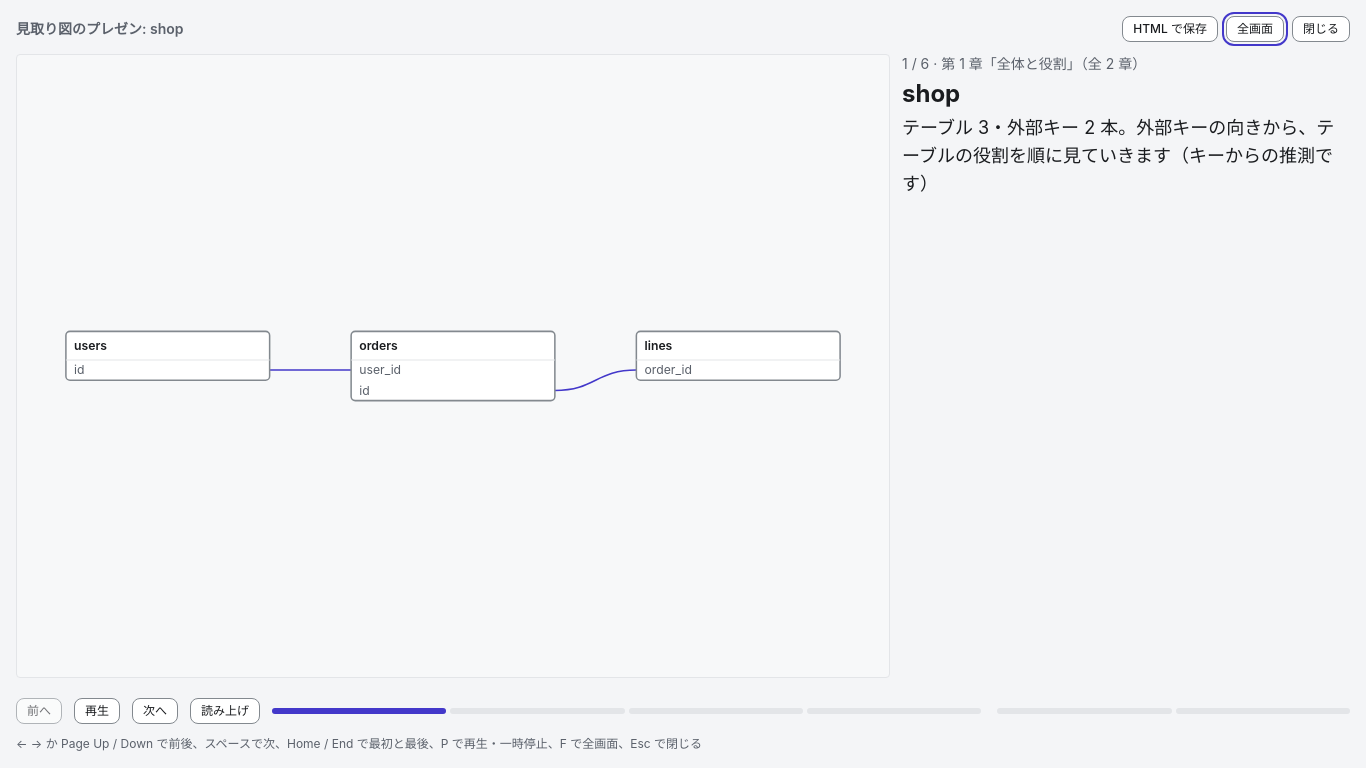
Test: MapTour › plays and pauses with P, and from its button
The image size is (1366, 768).
Expected: the picture is shown, [17, 55, 889, 677]
Press p in the dialog
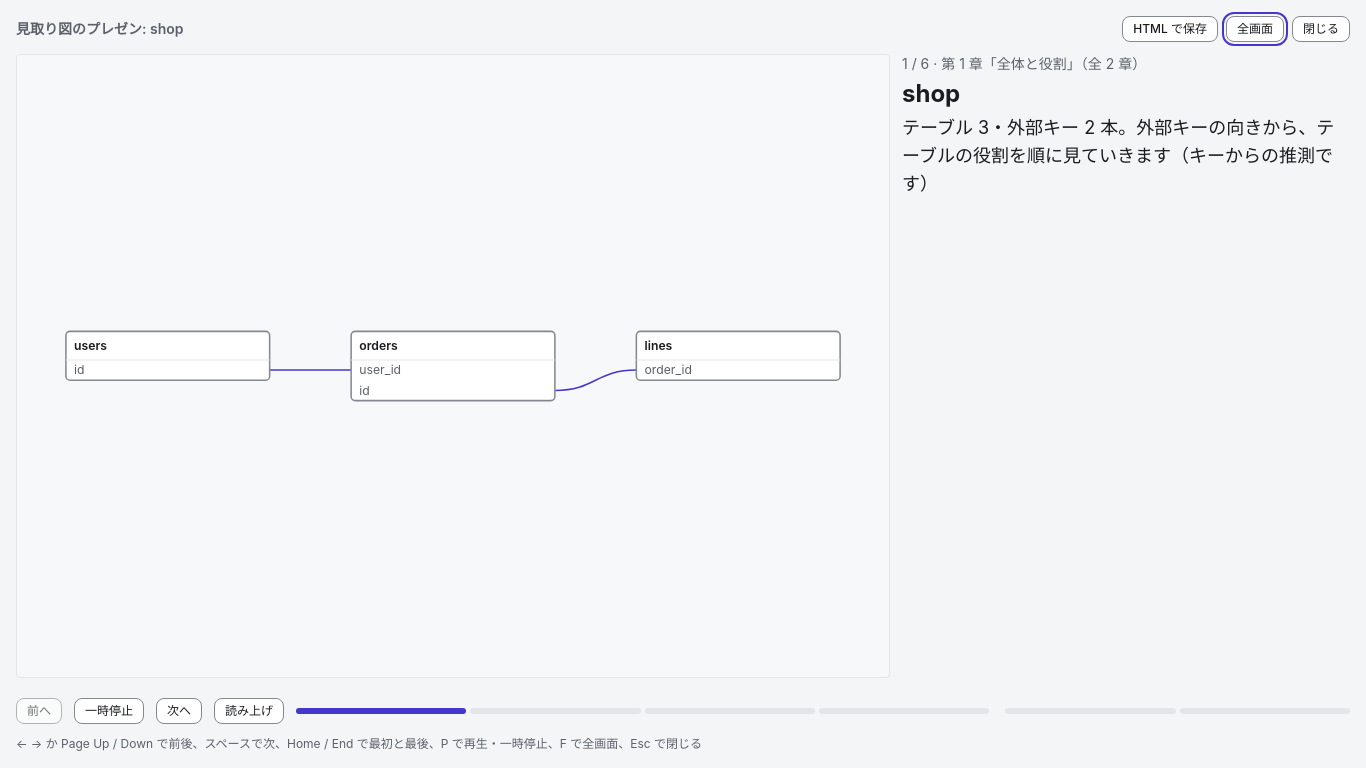
Result: the button "一時停止" is shown
Click the button "一時停止": click(109, 711) [74, 698, 144, 724]
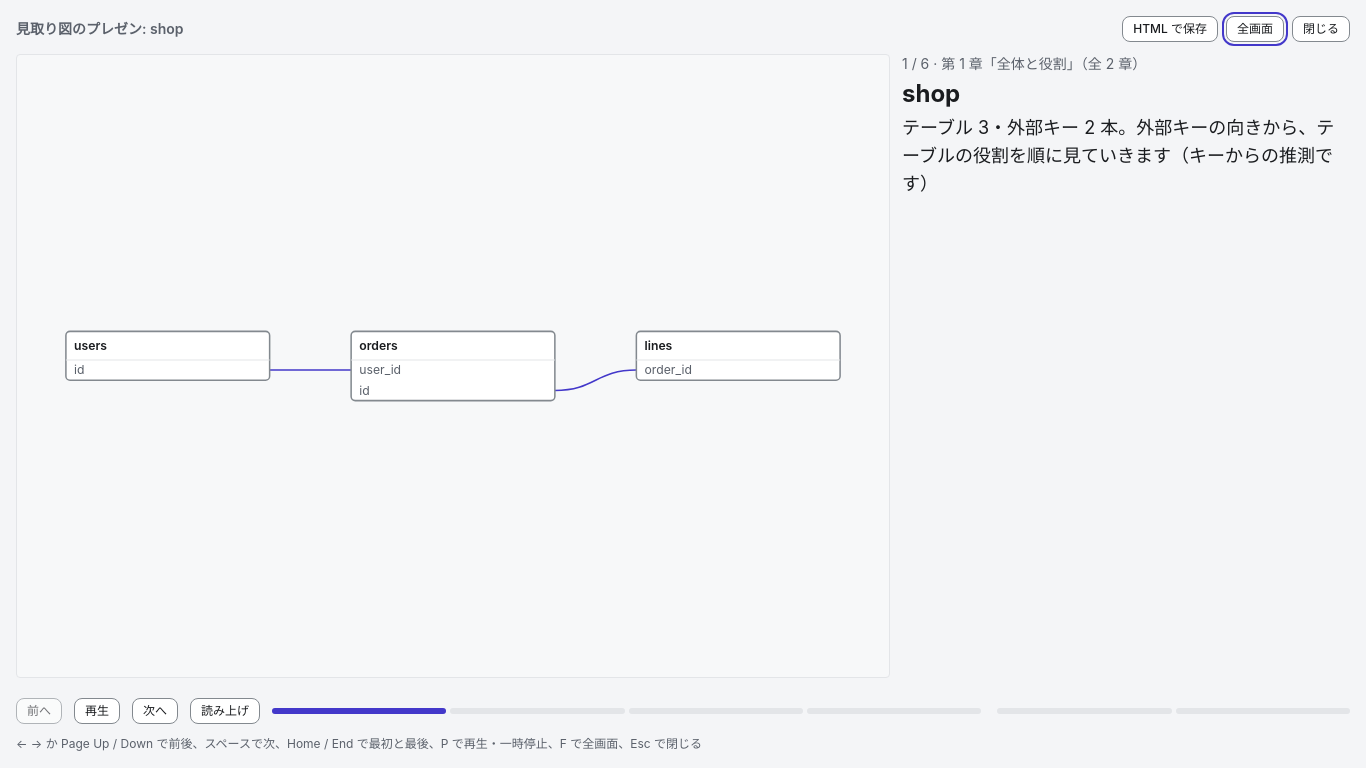
Result: the button "再生" is shown at [74, 698, 120, 724]
